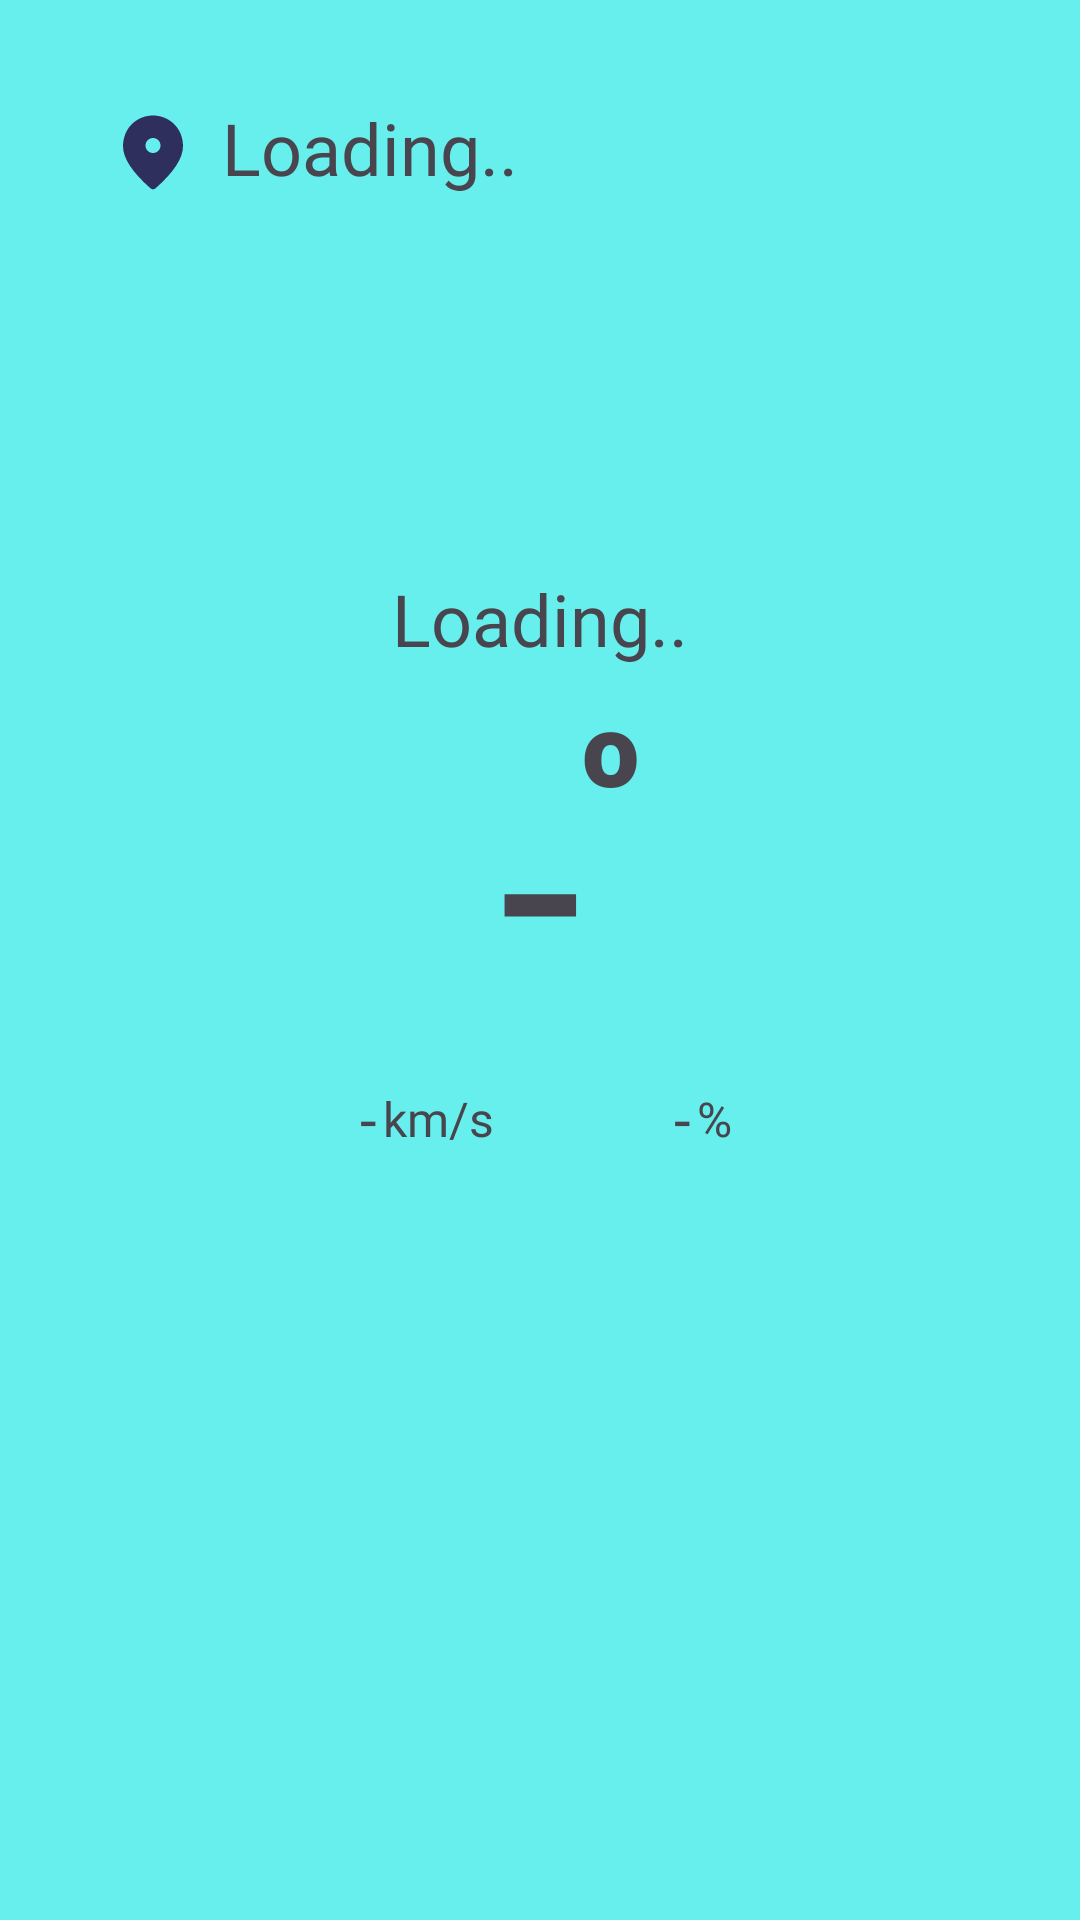

Icons on this 1080×1920 Android screen, each with its box as (x1, y1, x2, y2):
image pin: (123, 115, 183, 190)
